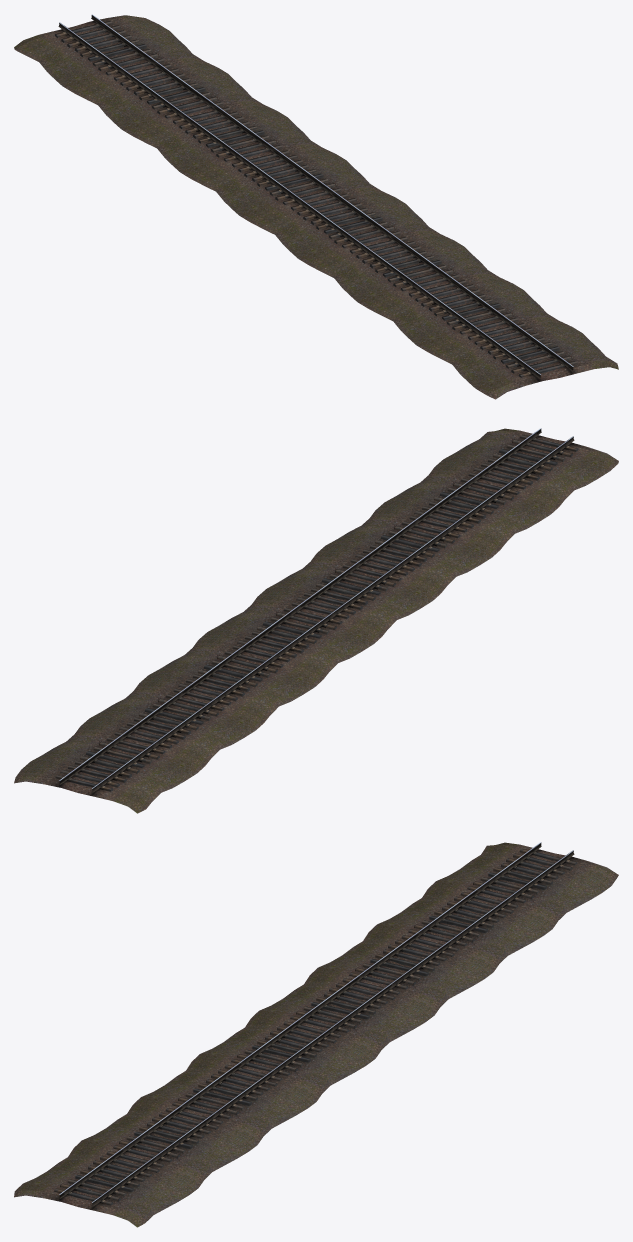
File: 1track_40_der_TSM.gltf
3 views of the same model, one above another, from view 1: azimuth 30°, elevation 25°; view 2: azimuth 150°, elevation 25°; view 3: azimuth 330°, elevation 25° (orthographic).
Bounding box in the file's own units: 6.7 × 0.6438 × 40.8.
Materials: 1 (1 with a texture image).
